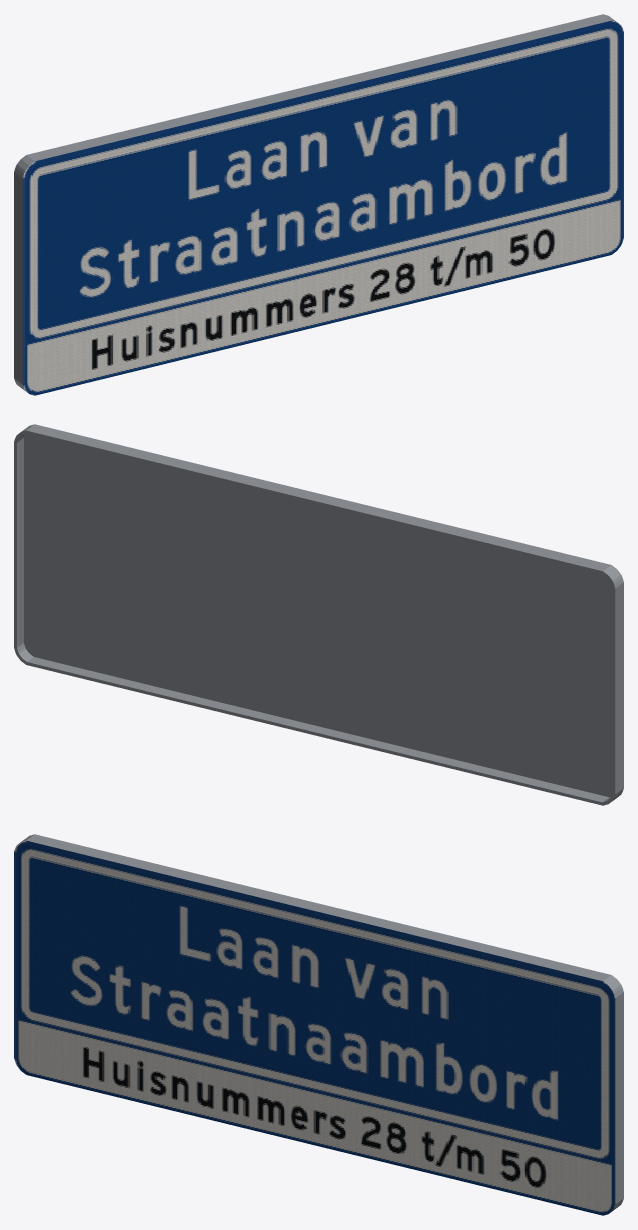
3 views of the same model, one above another, from view 1: azimuth 30°, elevation 25°; view 2: azimuth 150°, elevation 25°; view 3: azimuth 330°, elevation 25° (orthographic).
Parts seen in each view (by area): view 1: cat_931f06a3e579a56b; view 2: cat_931f06a3e579a56b; view 3: cat_931f06a3e579a56b.
Part boxes in pixels (<box>): cat_931f06a3e579a56b: <box>14,14,623,395</box>; cat_931f06a3e579a56b: <box>14,424,623,805</box>; cat_931f06a3e579a56b: <box>14,834,623,1215</box>.
Size of the model in its own units: 0.6 by 0.015 by 0.2235.
2 materials, 1 textured.
